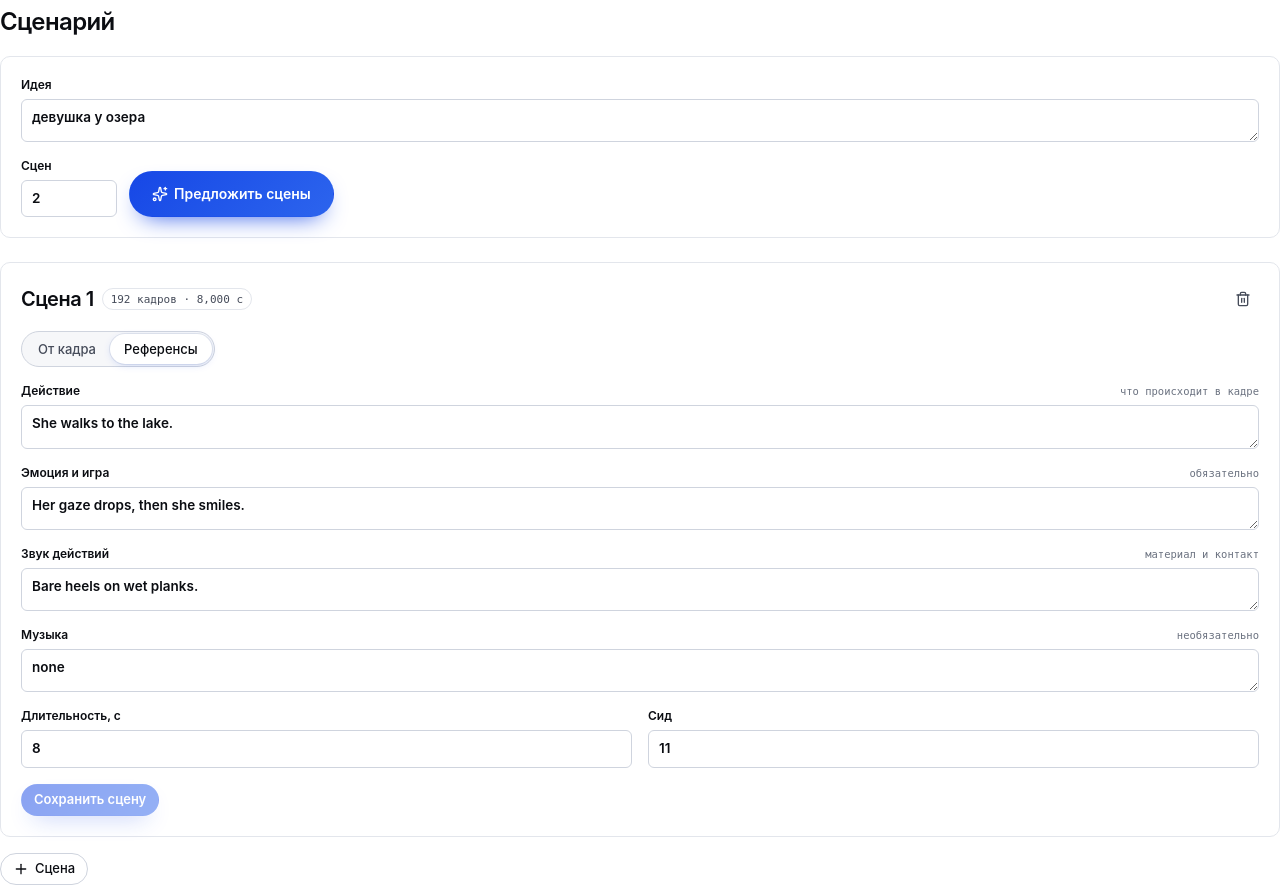
Scenario: ScenarioStep › r1 №7: a 409 on «+ Сцена» reloads the snapshot and shows the message; a 400 shows the message without a reload
(page scrolled)
Click the button "Сцена". click: click(44, 869)
box: [0, 853, 88, 884]
(page scrolled)
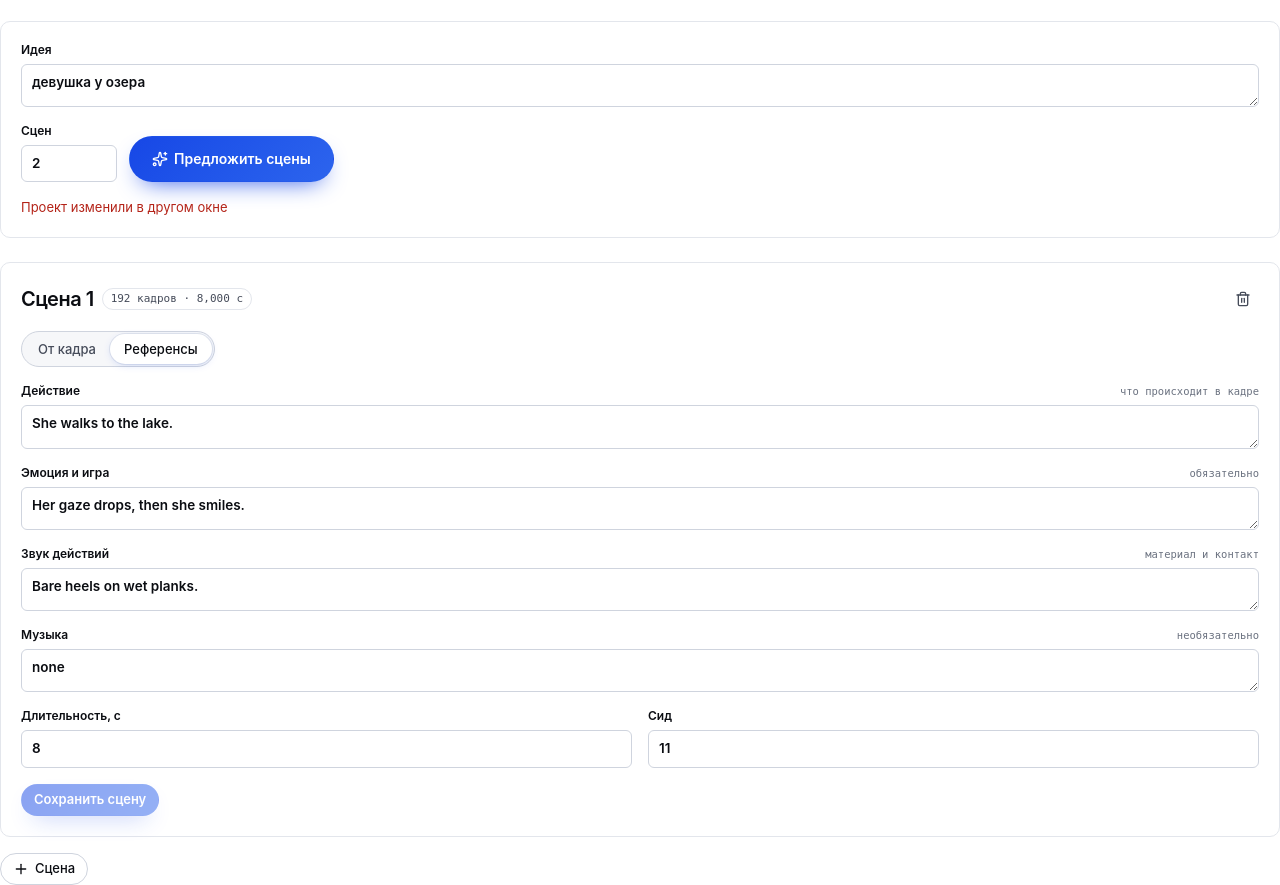
Expected: the message reads "Проект изменили в другом окне", [21, 200, 228, 216]
Click the button "Сцена". click: click(44, 869)
box: [0, 853, 88, 884]
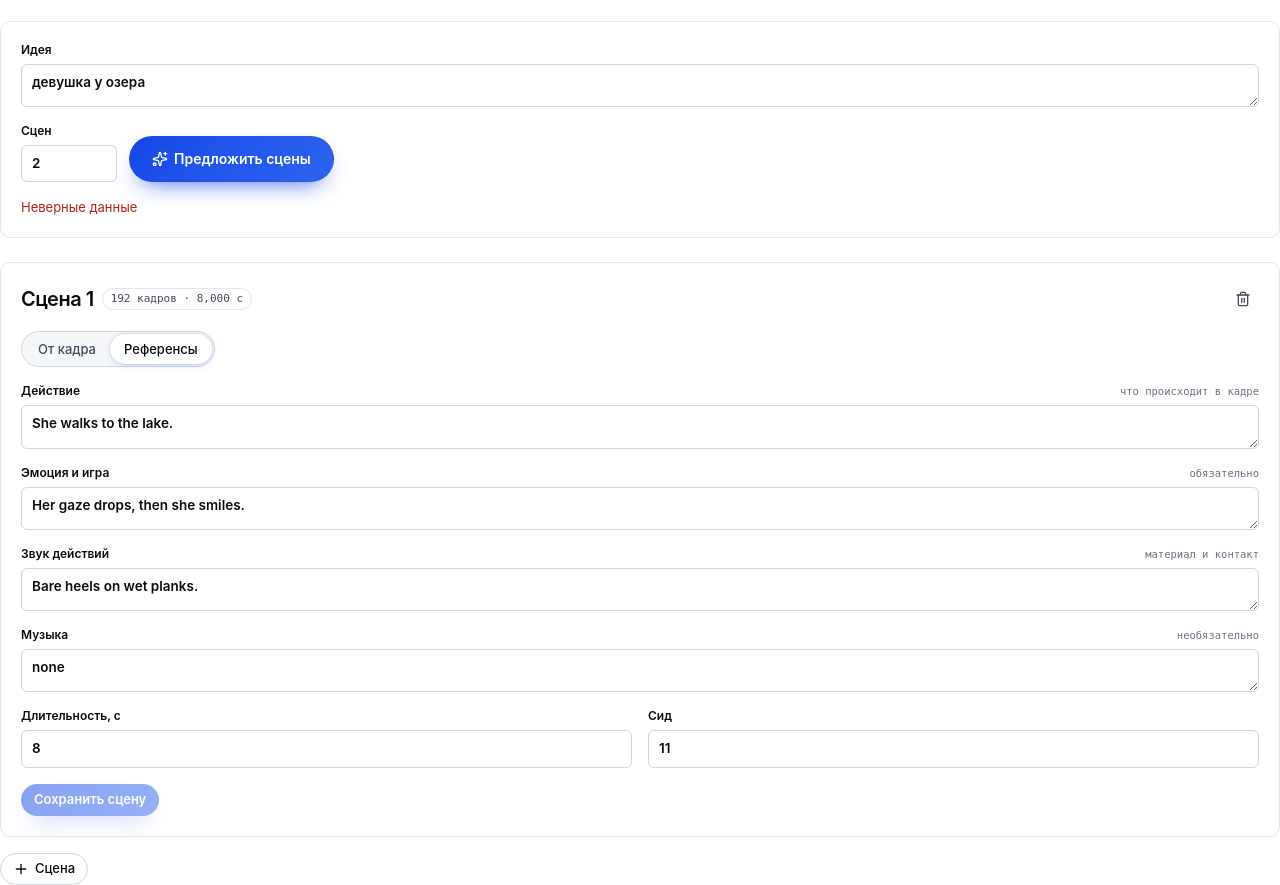
Expected: the message reads "Неверные данные", [21, 200, 137, 216]
